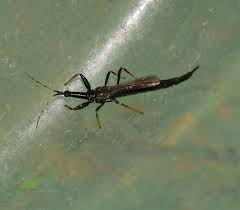Phlaeothripidae: (27, 63, 201, 133)
